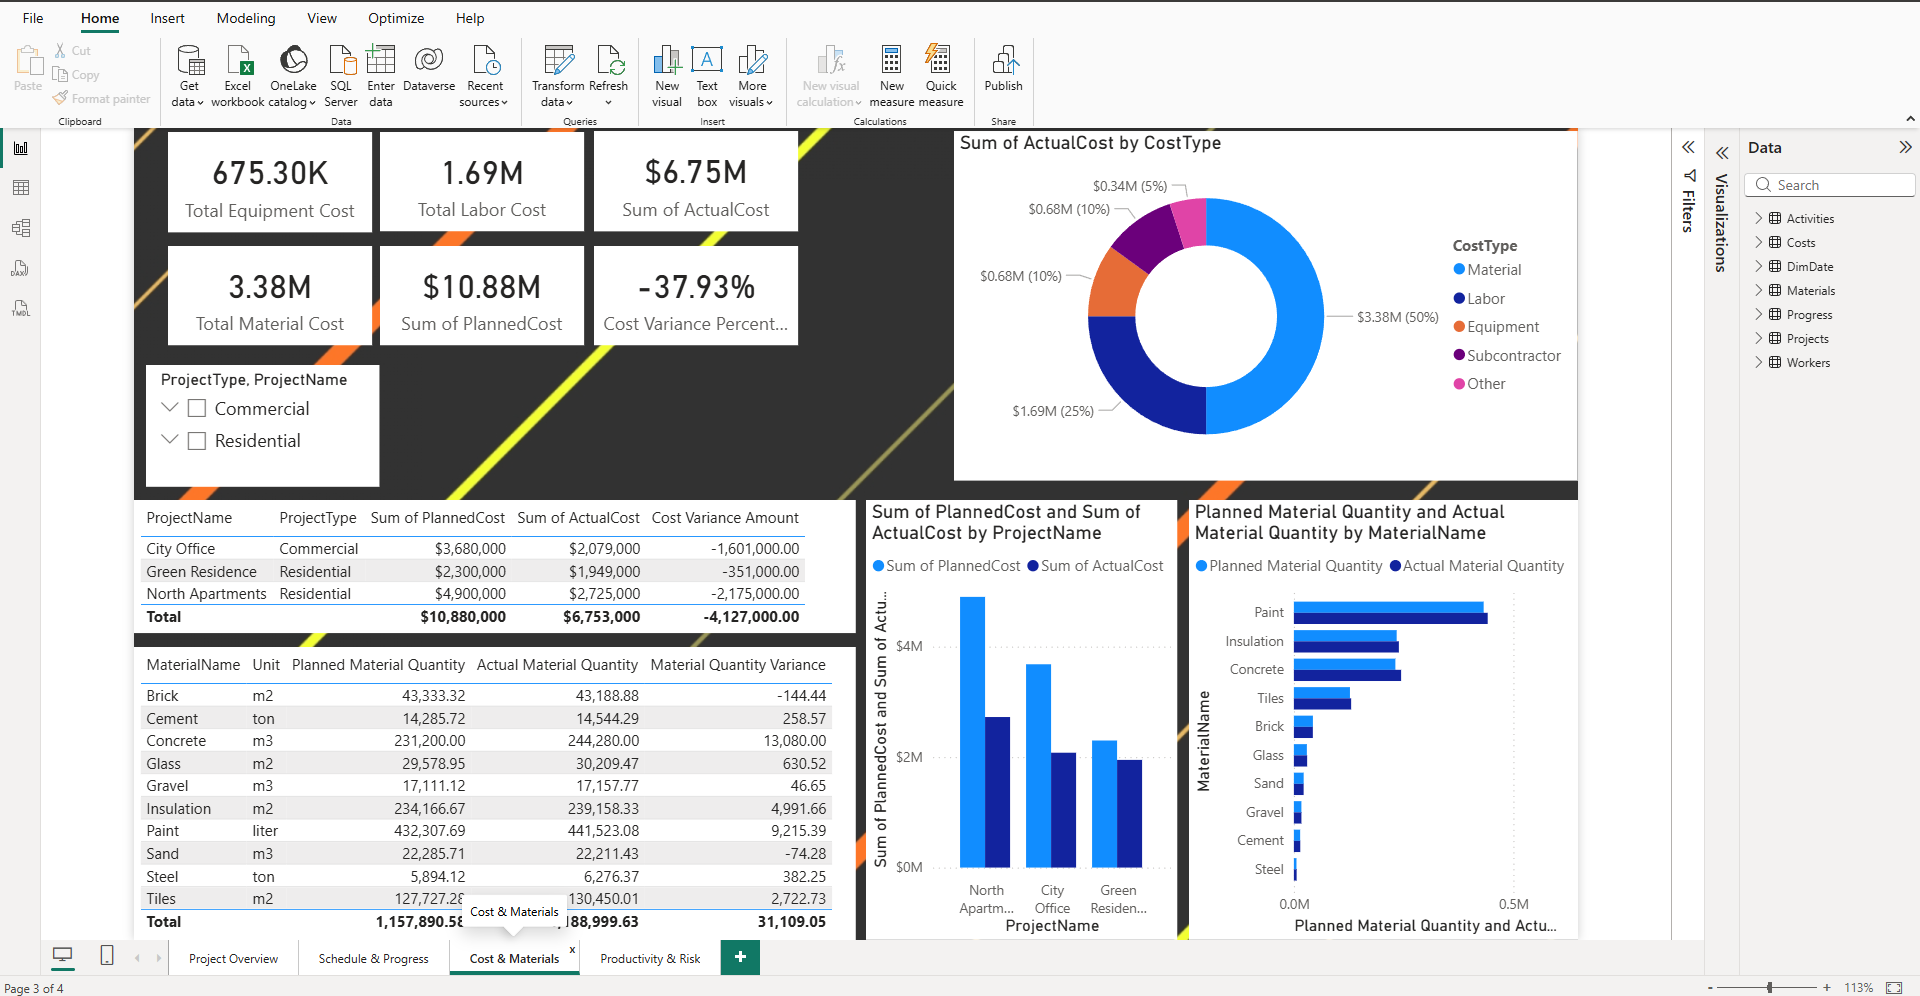

This screenshot's page, from the dashboard's own definition file:
{"tool":"powerbi","page":{"name":"Cost & Materials","canvas":[1280,720],"ordinal":2},"visuals":[{"type":"card","fields":{"Values":["Costs.Total Equipment Cost"]},"box":[29.8,3.7,180.7,89.4],"z":0},{"type":"card","fields":{"Values":["Costs.Cost Variance Percentage%"]},"box":[407.9,104.3,180.7,88.5],"z":1000},{"type":"card","fields":{"Values":["Sum(Costs.ActualCost)"]},"box":[407.9,2.8,180.7,89.4],"z":2000},{"type":"card","fields":{"Values":["Costs.Total Labor Cost"]},"box":[217.9,3.7,180.7,88.5],"z":3000},{"type":"card","fields":{"Values":["Costs.Total Material Cost"]},"box":[29.8,104.3,180.7,88.5],"z":4000},{"type":"card","fields":{"Values":["Sum(Costs.PlannedCost)"]},"box":[217.9,104.3,180.7,88.5],"z":5000},{"type":"donutChart","fields":{"Category":["Costs.CostType"],"Y":["Sum(Costs.ActualCost)"]},"box":[727.2,2.8,553.2,309.5],"z":6000},{"type":"clusteredColumnChart","fields":{"Category":["Projects.ProjectName"],"Y":["Sum(Costs.PlannedCost)","Sum(Costs.ActualCost)"]},"box":[649.2,329.7,275.7,390.3],"z":7000},{"type":"clusteredBarChart","fields":{"Category":["Materials.MaterialName"],"Y":["Materials.Planned Material Quantity","Materials.Actual Material Quantity"]},"box":[935.1,329.7,345.5,390.3],"z":9000},{"type":"tableEx","fields":{"Values":["Materials.MaterialName","Materials.Unit","Materials.Planned Material Quantity","Materials.Actual Material Quantity","Materials.Material Quantity Variance"]},"box":[0,460.1,639.9,259.9],"z":10000},{"type":"tableEx","fields":{"Values":["Projects.ProjectName","Projects.ProjectType","Sum(Costs.PlannedCost)","Sum(Costs.ActualCost)","Costs.Cost Variance Amount"]},"box":[0,329.7,639.9,118.3],"z":11000},{"type":"slicer","fields":{"Values":["Projects.ProjectType","Projects.ProjectName"]},"box":[10.9,210,207.3,108.2],"z":11003}]}

Visuals, with their boxes on the page's 1280x720 design canvas (x1, y1, x2, y2). These are canvas units, not pixel positions in the 1920x996 screenshot, which may show the page scaled, cropped or inside an application window:
card - Costs.Total Equipment Cost: [x1=30, y1=4, x2=210, y2=93]
card - Costs.Cost Variance Percentage%: [x1=408, y1=104, x2=589, y2=193]
card - Sum(Costs.ActualCost): [x1=408, y1=3, x2=589, y2=92]
card - Costs.Total Labor Cost: [x1=218, y1=4, x2=399, y2=92]
card - Costs.Total Material Cost: [x1=30, y1=104, x2=210, y2=193]
card - Sum(Costs.PlannedCost): [x1=218, y1=104, x2=399, y2=193]
donutChart - Costs.CostType x Sum(Costs.ActualCost): [x1=727, y1=3, x2=1280, y2=312]
clusteredColumnChart - Projects.ProjectName x Sum(Costs.PlannedCost): [x1=649, y1=330, x2=925, y2=720]
clusteredBarChart - Materials.MaterialName x Materials.Planned Material Quantity: [x1=935, y1=330, x2=1281, y2=720]
tableEx - Materials.MaterialName x Materials.Unit: [x1=0, y1=460, x2=640, y2=720]
tableEx - Projects.ProjectName x Projects.ProjectType: [x1=0, y1=330, x2=640, y2=448]
slicer - Projects.ProjectType x Projects.ProjectName: [x1=11, y1=210, x2=218, y2=318]
